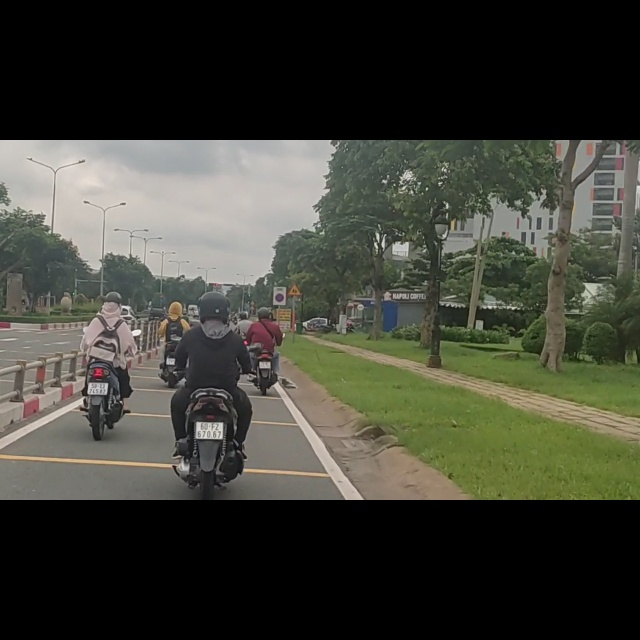bien_nguy_hiem: (288, 255, 301, 277), (275, 273, 284, 288)
